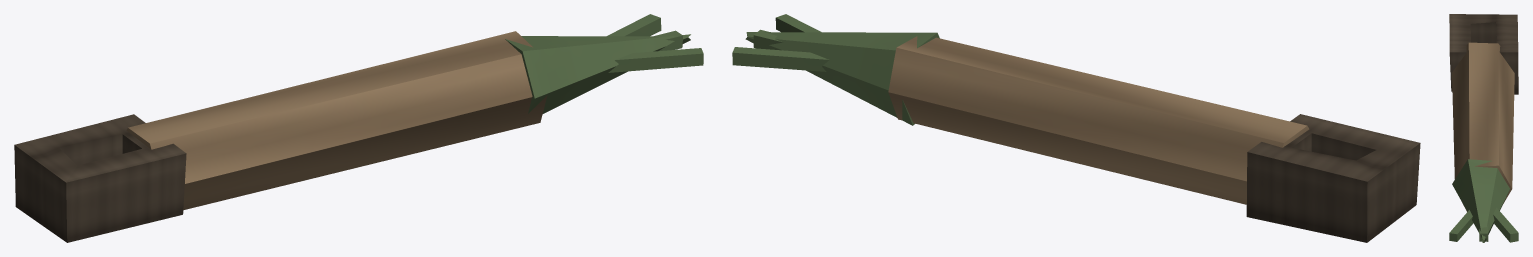
File: needle_pine.glb
3 views of the same model, side by side, from view 1: azimuth 30°, elevation 25°; view 2: azimuth 150°, elevation 25°; view 3: azimuth 270°, elevation 25° (orthographic). The views are drawn at different scales.
Visible parts, largest first — view 1: NeedlePine; view 2: NeedlePine; view 3: NeedlePine.
Boxes of the visible parts, left/top/right/bottom form: NeedlePine: left=14, top=14, right=703, bottom=242; NeedlePine: left=732, top=14, right=1420, bottom=242; NeedlePine: left=1449, top=14, right=1518, bottom=242.
Bounding box in the file's own units: 0.3368 × 0.0378 × 0.048.
Materials: 3 (3 with a texture image).
